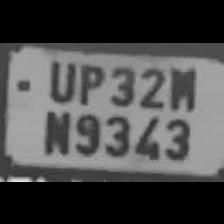2: (134, 62, 166, 106)
3: (160, 111, 192, 160), (100, 108, 130, 156), (105, 61, 135, 105)
4: (131, 109, 161, 159)
9: (70, 106, 100, 154)
M: (165, 62, 197, 108)
N: (38, 104, 70, 154)
P: (73, 59, 105, 103)
U: (43, 56, 75, 103)
